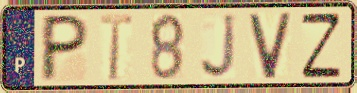8: (149, 13, 187, 82)
J: (198, 11, 239, 81)
P: (37, 12, 92, 84)
T: (97, 12, 135, 83)
V: (246, 10, 295, 82)
Z: (299, 10, 343, 81)
